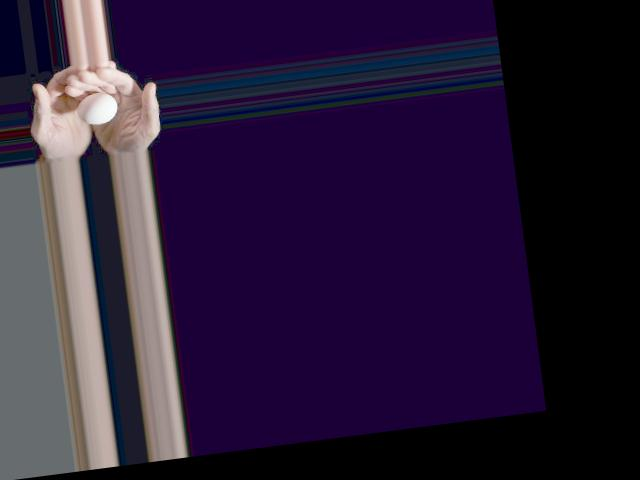egg: (75, 90, 120, 126)
